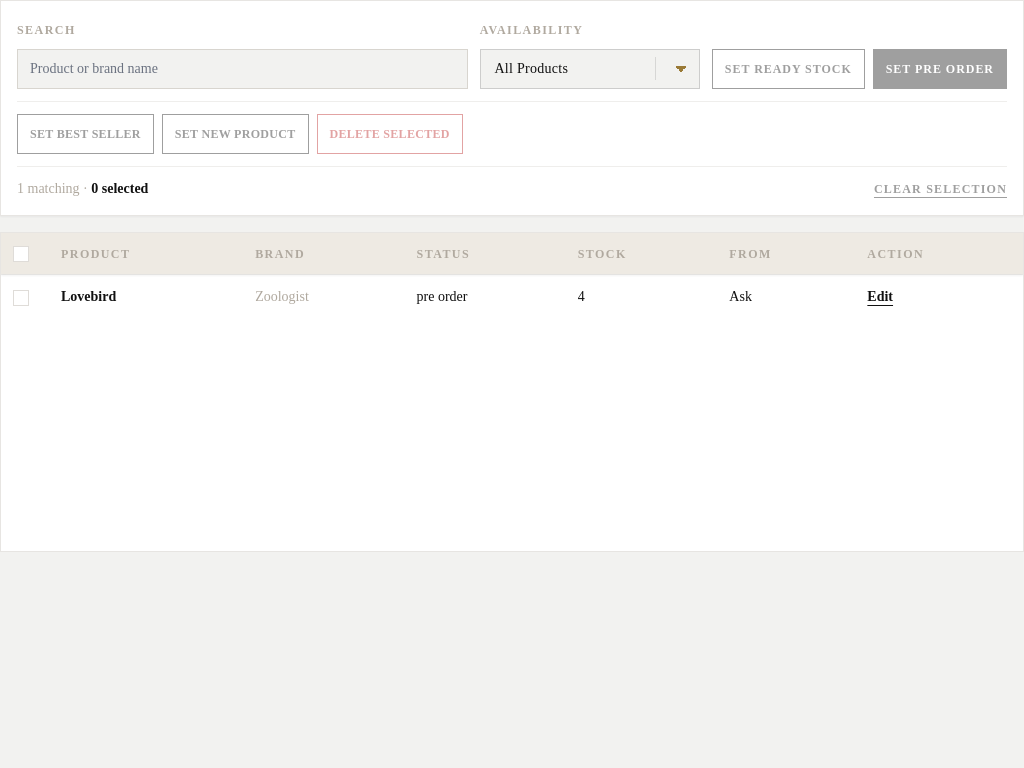
Test: catalog management UI › applies Set Best Seller to selected products
Step 1. Click the checkbox named "Select Lovebird" → (21, 298), box [13,290,29,306]
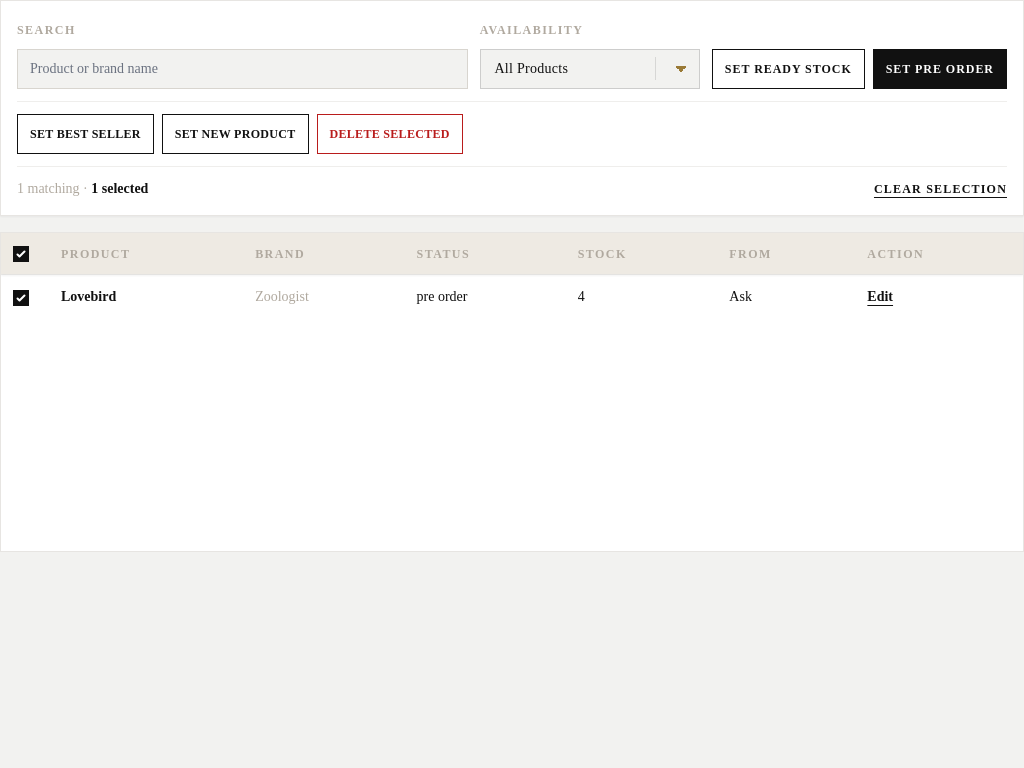
Step 2. Click the button "Set Best Seller" → (85, 134), box [17,114,154,154]
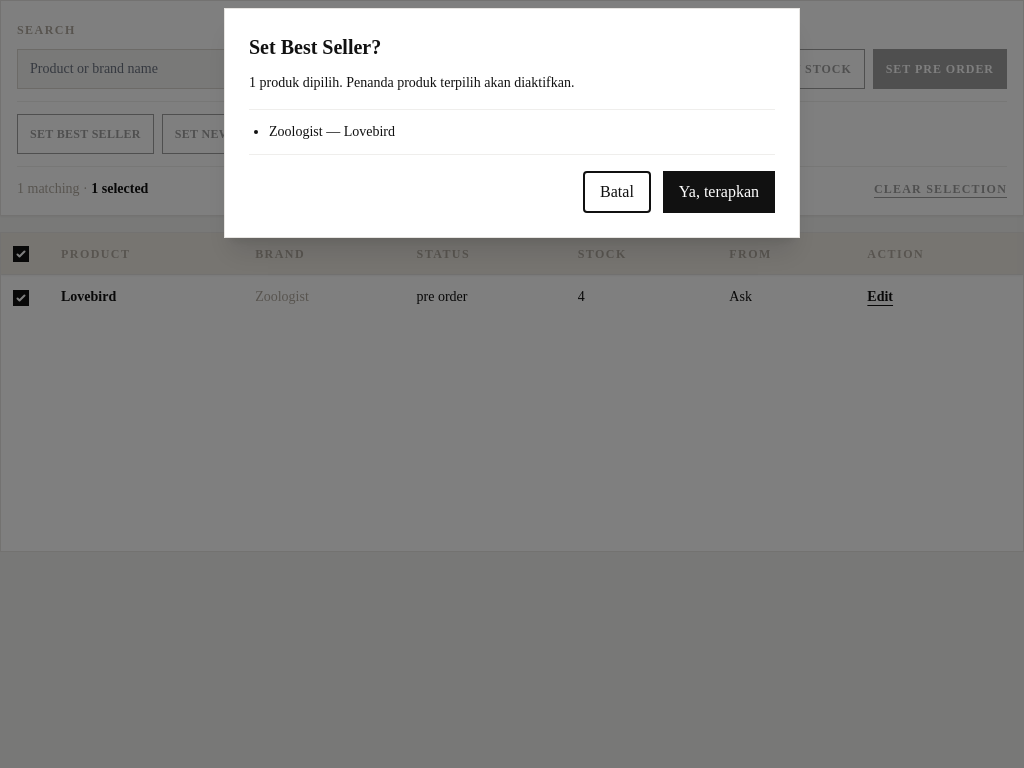
Step 3. Click the button "Ya, terapkan" → (719, 192), box [663,171,775,213]
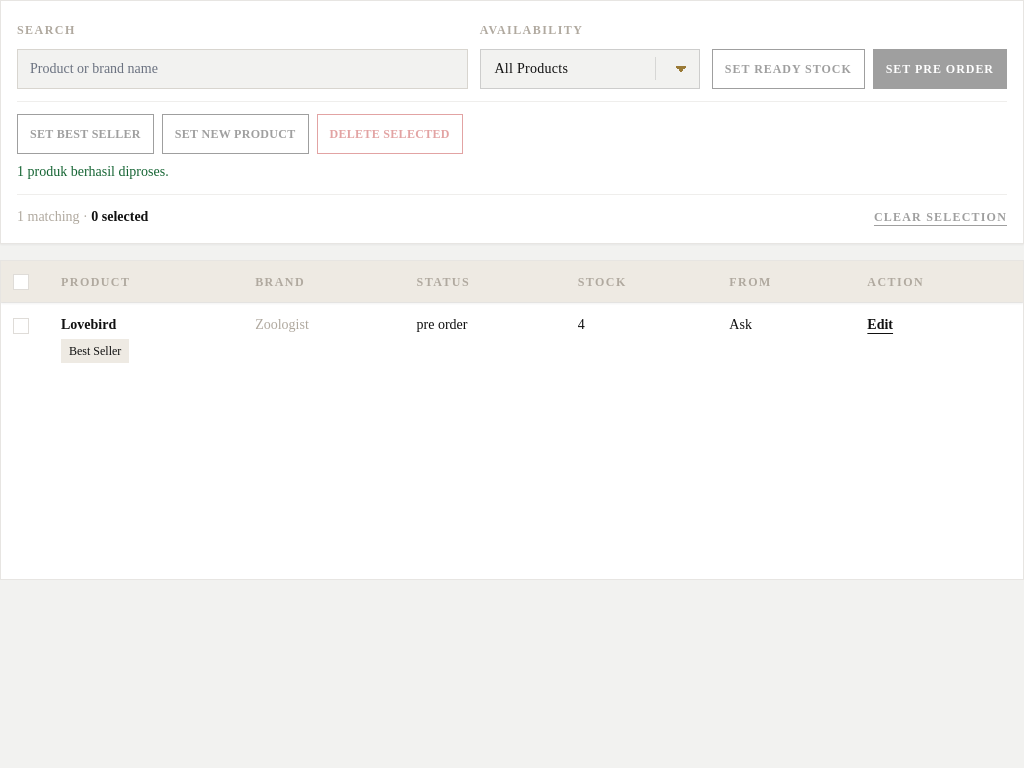
Check: the text "Best Seller" is shown, box [61,339,129,363]
Check: the text "0 selected" is shown, box [91,209,148,224]
